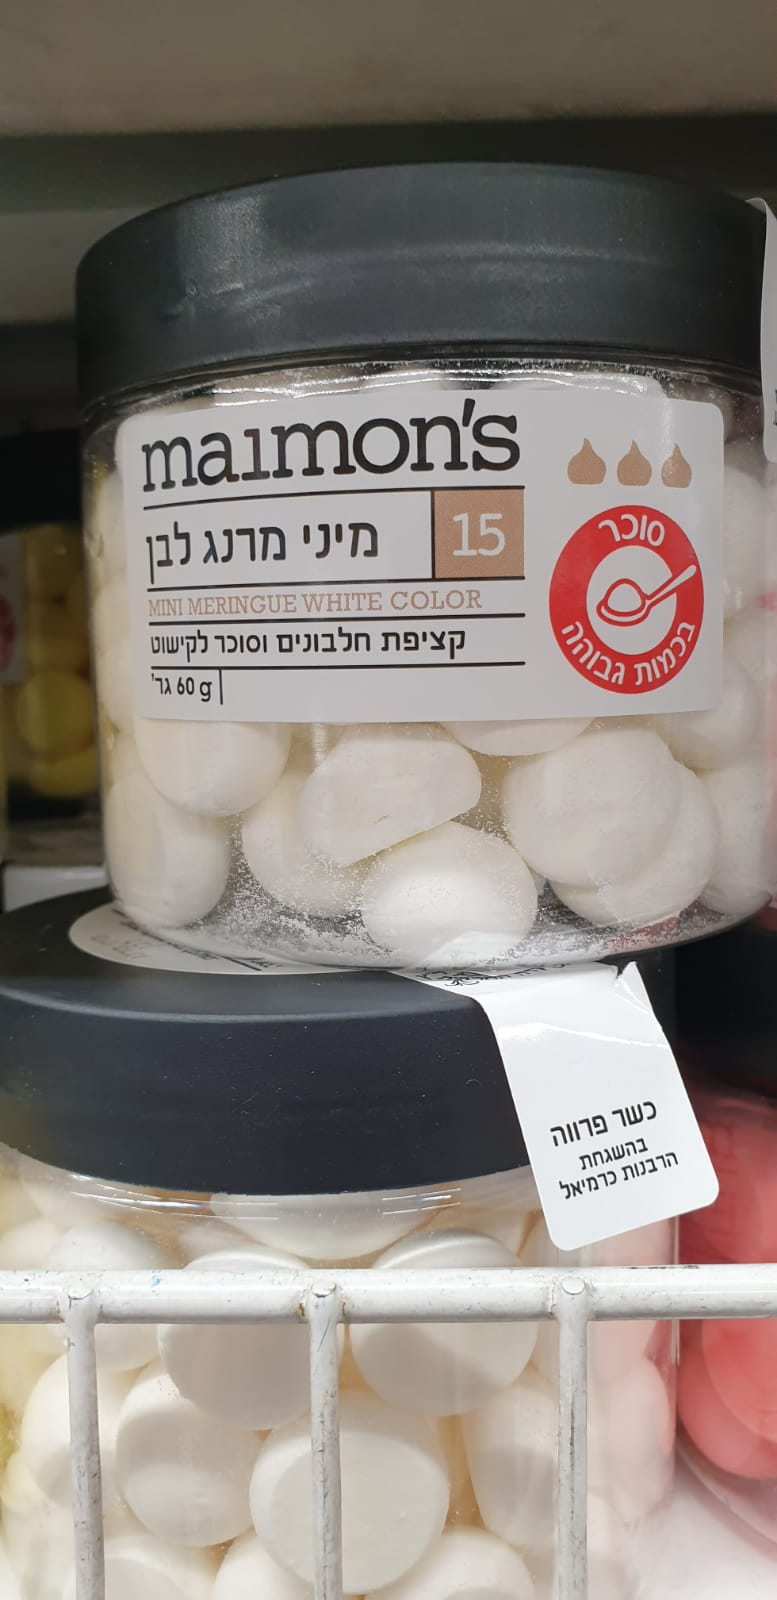sugar: (545, 505, 710, 701)
